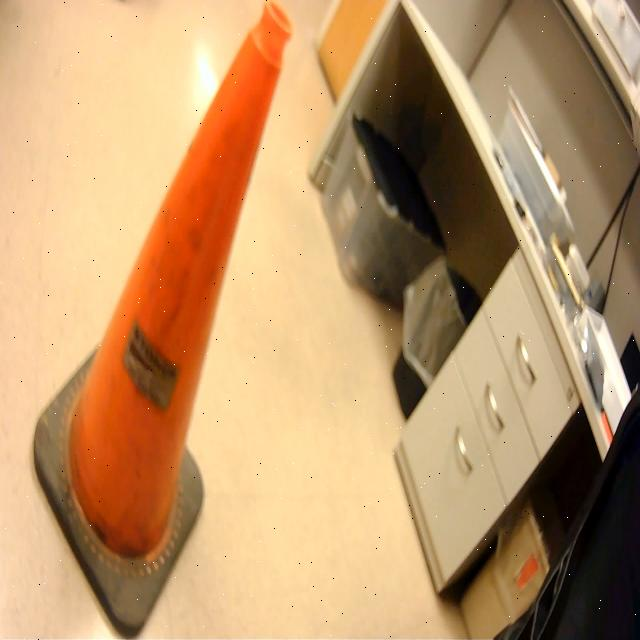traffic cone: (29, 1, 299, 640)
